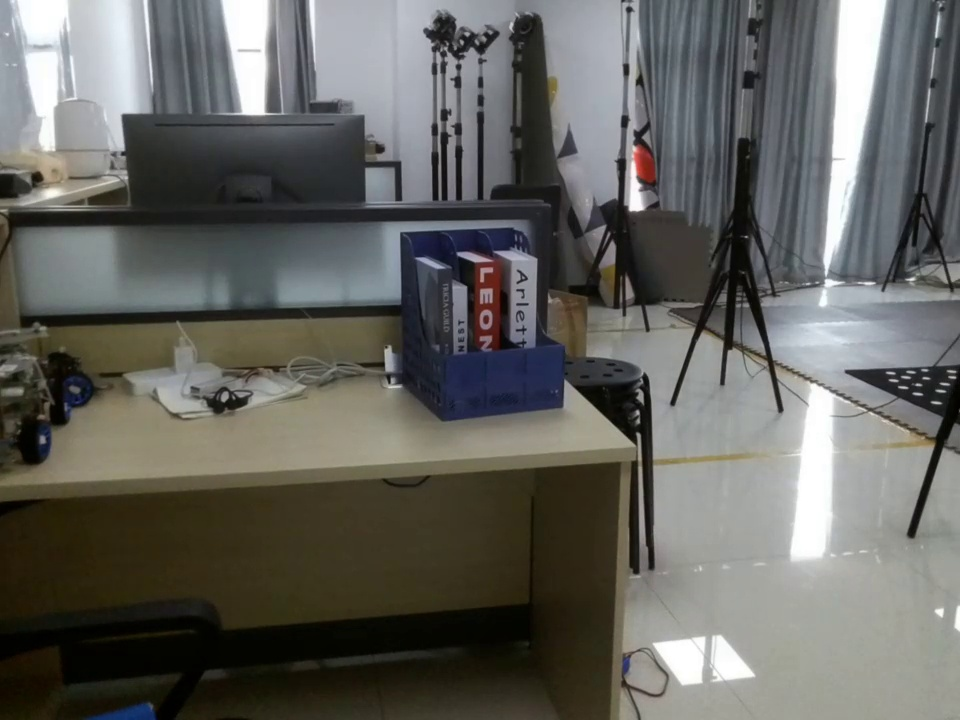files: (396, 223, 569, 428)
